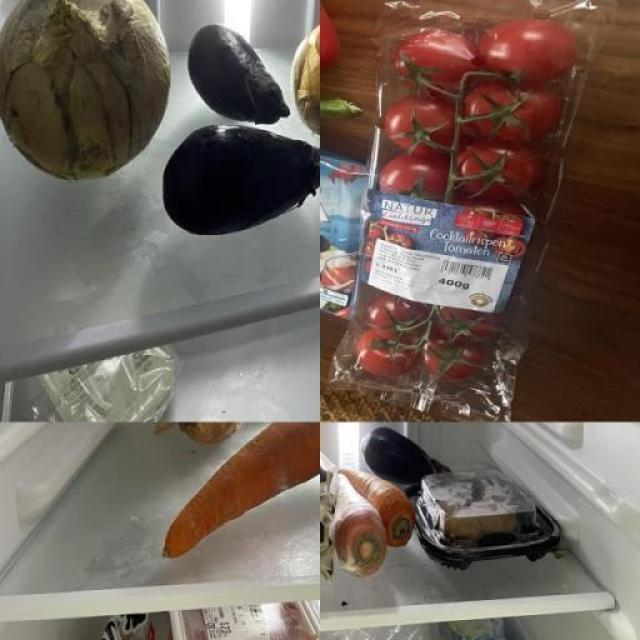Tomato: (440, 70, 565, 149), (471, 13, 578, 93), (379, 13, 473, 102), (440, 138, 546, 212), (378, 88, 464, 162), (369, 147, 448, 215)
